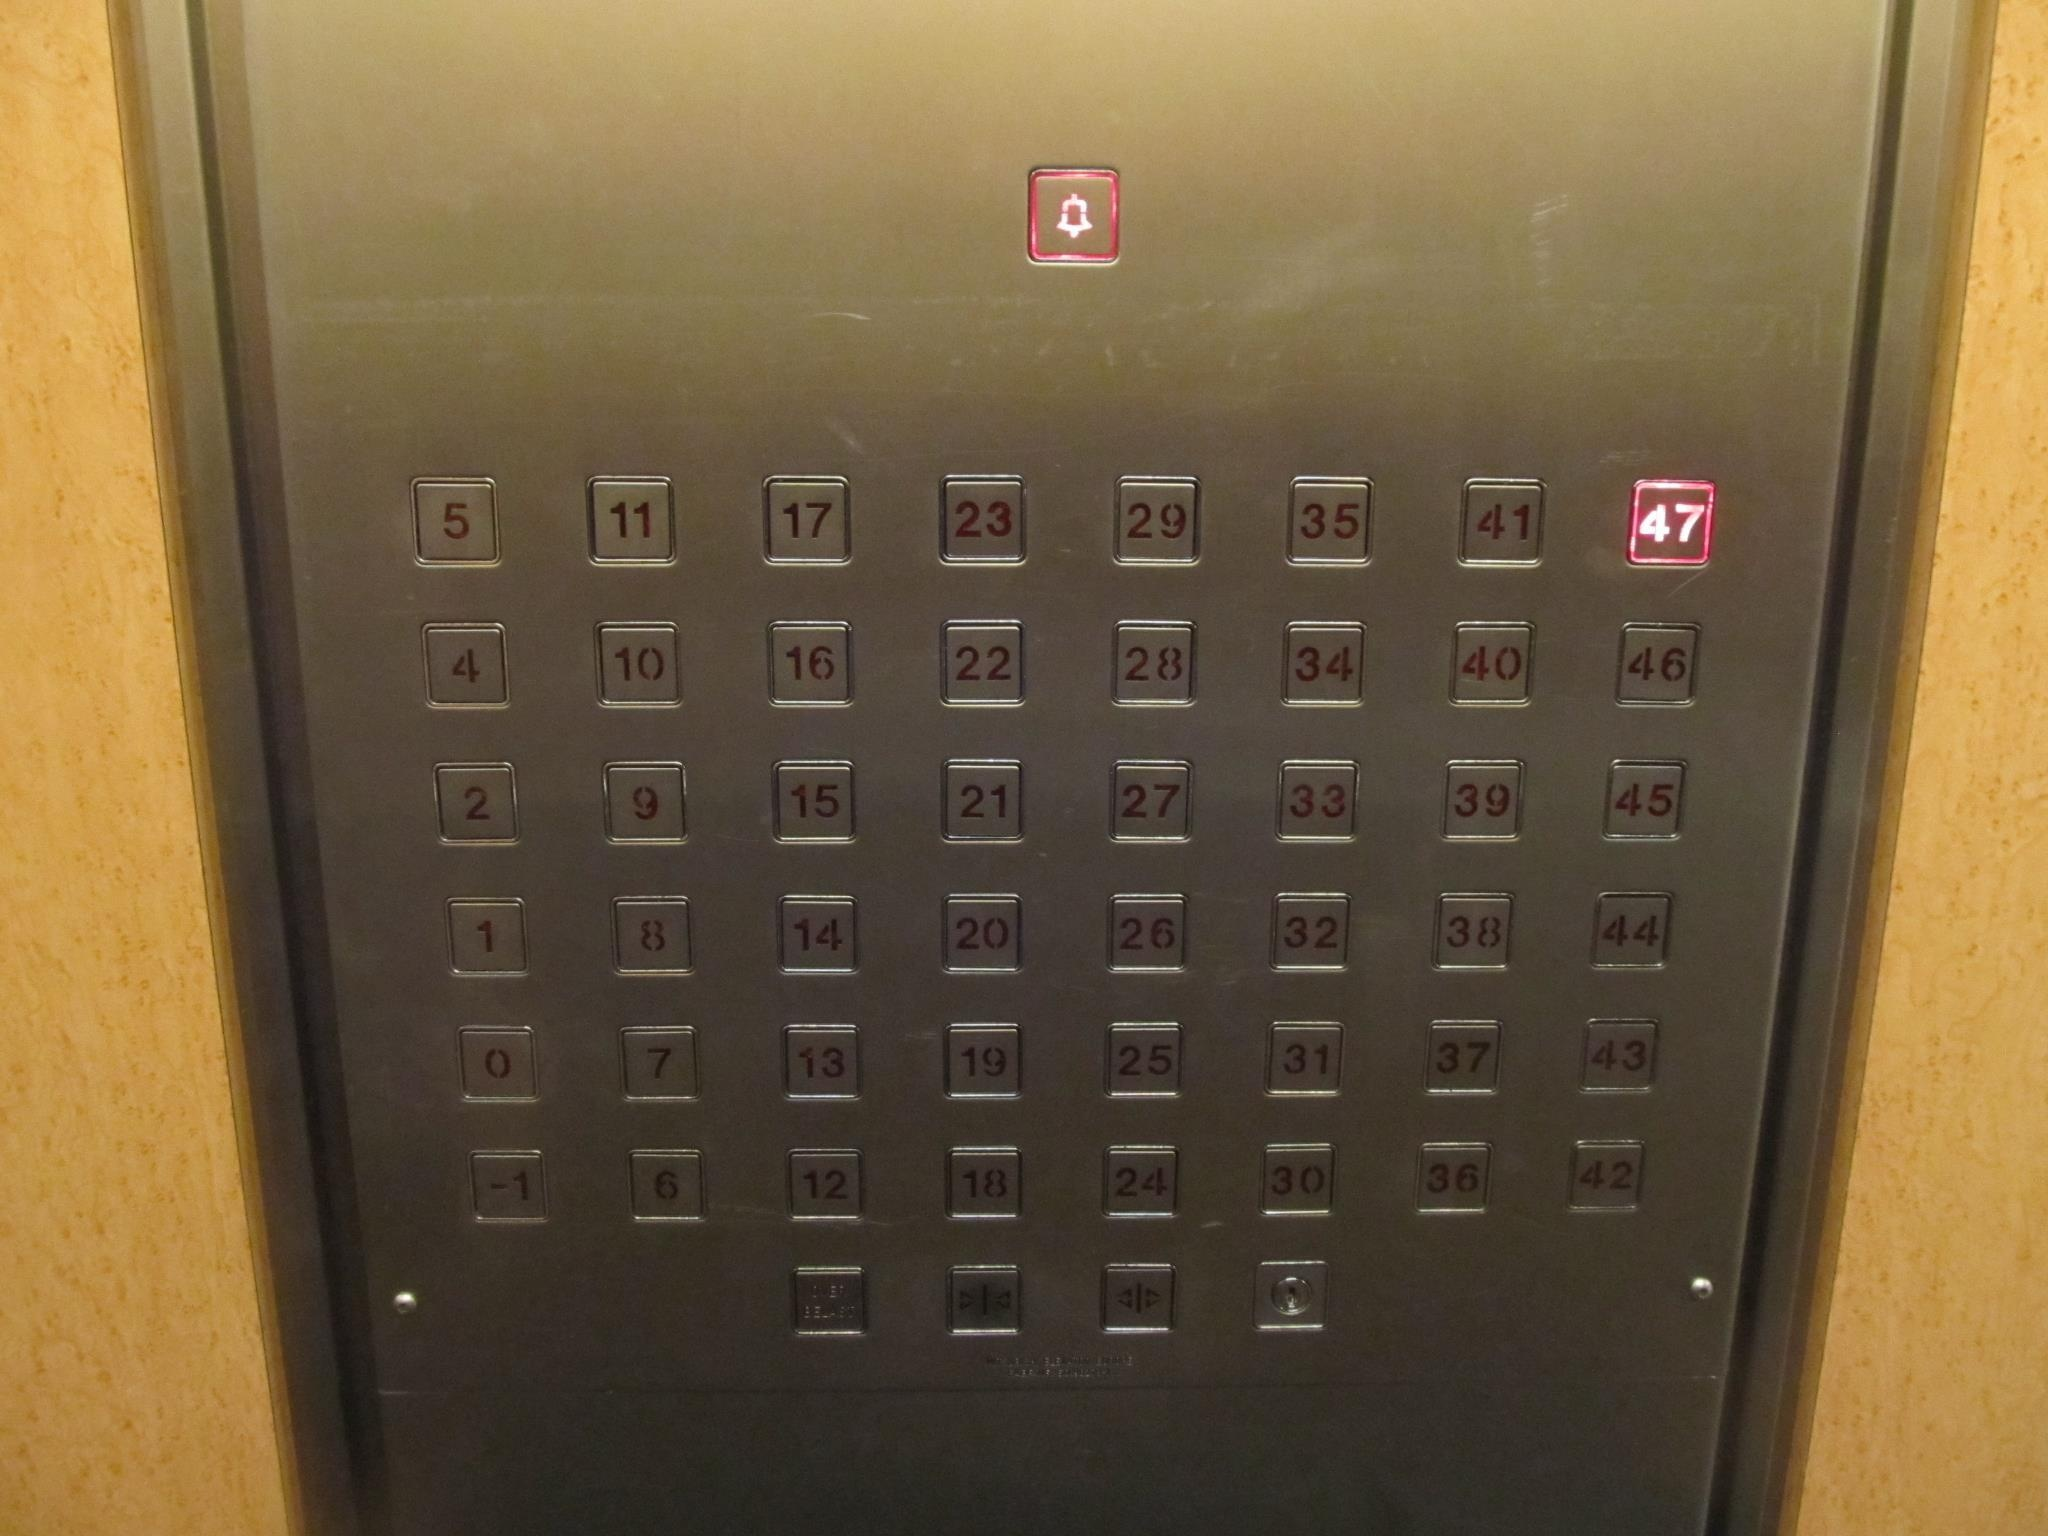-1: (460, 1142, 555, 1228)
0: (450, 1020, 543, 1108)
1: (440, 891, 539, 984)
10: (587, 615, 690, 715)
11: (579, 470, 682, 571)
12: (779, 1141, 871, 1228)
13: (776, 1016, 871, 1108)
14: (769, 887, 868, 979)
15: (766, 753, 866, 850)
16: (760, 615, 860, 712)
17: (756, 470, 856, 571)
18: (937, 1139, 1027, 1228)
19: (935, 1015, 1030, 1105)
2: (427, 757, 527, 850)
20: (935, 887, 1032, 979)
21: (934, 750, 1030, 850)
22: (932, 611, 1037, 715)
23: (932, 468, 1037, 573)
24: (1095, 1136, 1185, 1226)
25: (1097, 1016, 1192, 1107)
26: (1101, 887, 1197, 983)
27: (1101, 753, 1200, 850)
28: (1106, 615, 1205, 712)
29: (1108, 466, 1206, 573)
30: (1253, 1137, 1342, 1221)
31: (1258, 1013, 1351, 1104)
32: (1264, 886, 1356, 978)
33: (1272, 752, 1363, 849)
34: (1274, 613, 1372, 716)
35: (1279, 468, 1380, 573)
36: (1409, 1134, 1496, 1221)
37: (1419, 1013, 1509, 1100)
38: (1427, 884, 1522, 978)
39: (1435, 752, 1534, 849)
4: (416, 618, 516, 715)
40: (1447, 615, 1538, 715)
41: (1451, 471, 1551, 576)
42: (1563, 1133, 1651, 1220)
43: (1576, 1010, 1663, 1100)
44: (1587, 884, 1679, 975)
45: (1596, 750, 1692, 849)
46: (1609, 615, 1703, 716)
47: (1625, 476, 1714, 573)
5: (405, 471, 506, 573)
6: (619, 1141, 713, 1229)
7: (611, 1020, 708, 1108)
8: (605, 889, 698, 983)
9: (595, 753, 695, 849)
alarm: (1022, 161, 1129, 271)
blur: (784, 1258, 871, 1342)
bt_keyhole: (1247, 1255, 1334, 1338)
close: (942, 1258, 1030, 1346)
open: (1093, 1257, 1184, 1342)
